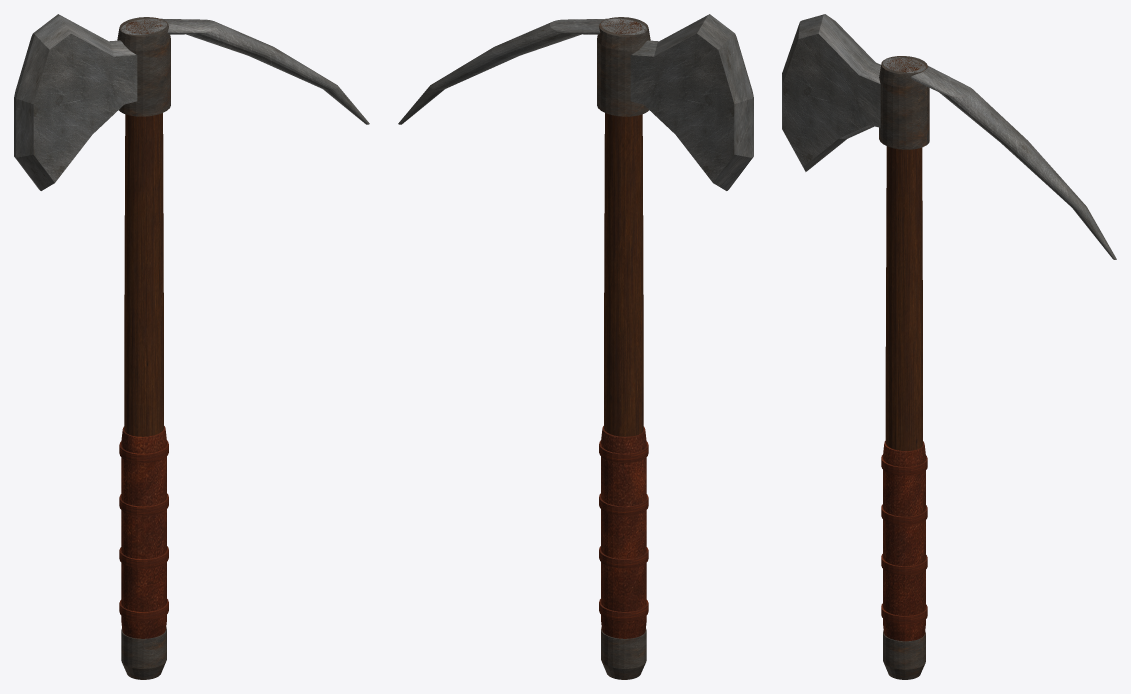
File: pickaxe.obj
3 renders of one model, left to right at view 1: azimuth 30°, elevation 25°; view 2: azimuth 150°, elevation 25°; view 3: azimuth 330°, elevation 25°, orthographic. The views are drawn at different scales.
Visible parts, largest first — view 1: head, shaft, grip, mining_pick, socket, end_cap, grip_wrap1, grip_wrap2, grip_wrap3; view 2: head, shaft, grip, mining_pick, socket, end_cap, grip_wrap1, grip_wrap2, grip_wrap3; view 3: shaft, head, grip, mining_pick, socket, end_cap.
Boxes of the visible parts, x1,y1,x2,y2 form: head: (14, 14, 137, 190); shaft: (124, 19, 163, 436); grip: (121, 426, 166, 638); mining_pick: (121, 18, 369, 124); socket: (117, 17, 170, 116); end_cap: (121, 627, 166, 679); grip_wrap1: (119, 546, 168, 568); grip_wrap2: (119, 493, 168, 515); grip_wrap3: (119, 440, 168, 462); head: (630, 14, 753, 190); shaft: (604, 19, 643, 436); grip: (601, 426, 646, 638); mining_pick: (398, 18, 646, 124); socket: (597, 17, 650, 116); end_cap: (601, 627, 646, 679); grip_wrap1: (599, 546, 648, 568); grip_wrap2: (599, 493, 648, 515); grip_wrap3: (599, 440, 648, 462); shaft: (885, 58, 922, 450); head: (782, 14, 880, 171); grip: (883, 441, 925, 641); mining_pick: (883, 57, 1116, 259); socket: (879, 56, 929, 149); end_cap: (883, 630, 925, 679).
Size of the model in its own units: 55.75 by 102 by 6.73.
4 materials, 4 textured.
